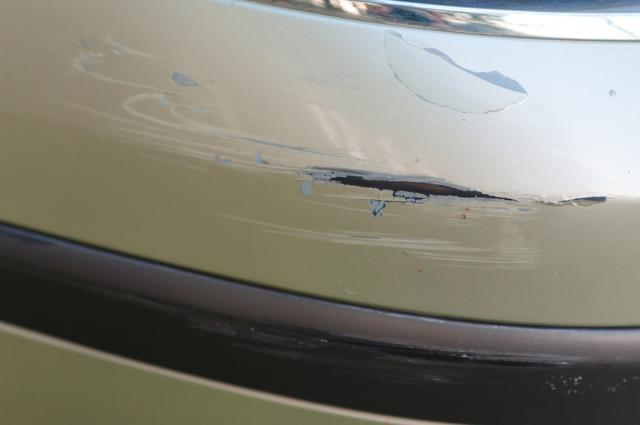Bumper: (52, 22, 640, 323)
